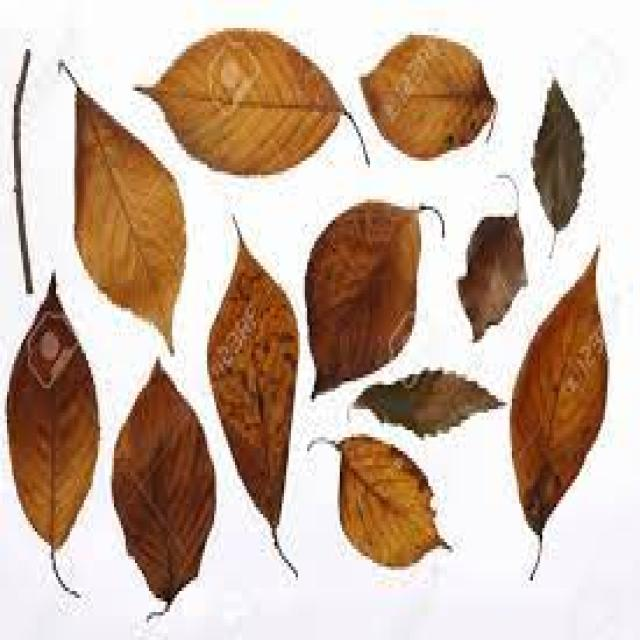Metal Can: (204, 213, 308, 583), (64, 77, 192, 368), (138, 23, 374, 175), (9, 270, 102, 574), (110, 360, 217, 608), (304, 200, 422, 395), (307, 430, 454, 570), (358, 37, 505, 155), (349, 365, 504, 446), (454, 215, 534, 341), (530, 77, 587, 243)
